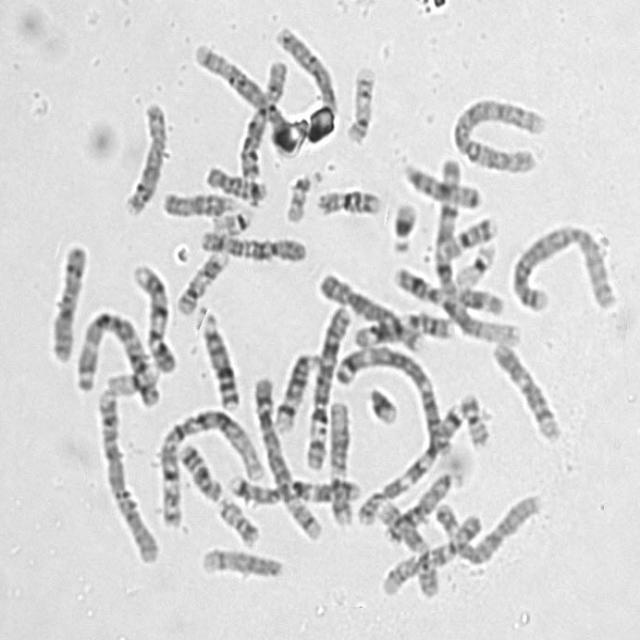A1: (426, 148, 520, 350), (153, 398, 267, 530)
A2: (505, 217, 620, 314), (447, 90, 550, 175)
A3: (329, 338, 453, 458), (70, 302, 164, 407)
B4: (90, 380, 162, 566), (271, 20, 340, 137)
B5: (246, 367, 326, 544), (187, 36, 294, 154)
C10: (374, 508, 484, 598), (194, 222, 308, 264)
C11: (392, 263, 520, 315), (341, 310, 468, 359)
C12: (486, 336, 564, 444), (324, 394, 355, 528)
C6: (299, 296, 353, 473), (427, 485, 542, 566)
C7: (350, 395, 468, 527), (223, 466, 364, 508)
C8: (314, 266, 428, 354), (118, 94, 168, 218)
C9: (373, 495, 442, 599), (126, 256, 178, 375)
D13: (380, 462, 462, 544), (194, 302, 242, 412)
D14: (269, 346, 325, 435), (195, 542, 285, 581)
D15: (398, 156, 482, 209), (158, 184, 242, 219)
E16: (435, 212, 504, 266), (311, 182, 383, 218)
E17: (170, 244, 230, 316), (340, 60, 378, 144)
E18: (174, 436, 223, 503), (200, 158, 267, 205)
F19: (450, 236, 500, 290), (102, 357, 161, 398)
F20: (212, 492, 261, 548), (456, 386, 492, 450)
G21: (385, 194, 420, 256), (362, 378, 402, 426)
G22: (280, 164, 321, 224), (207, 203, 254, 236)
X: (233, 54, 290, 182), (44, 236, 90, 363)
